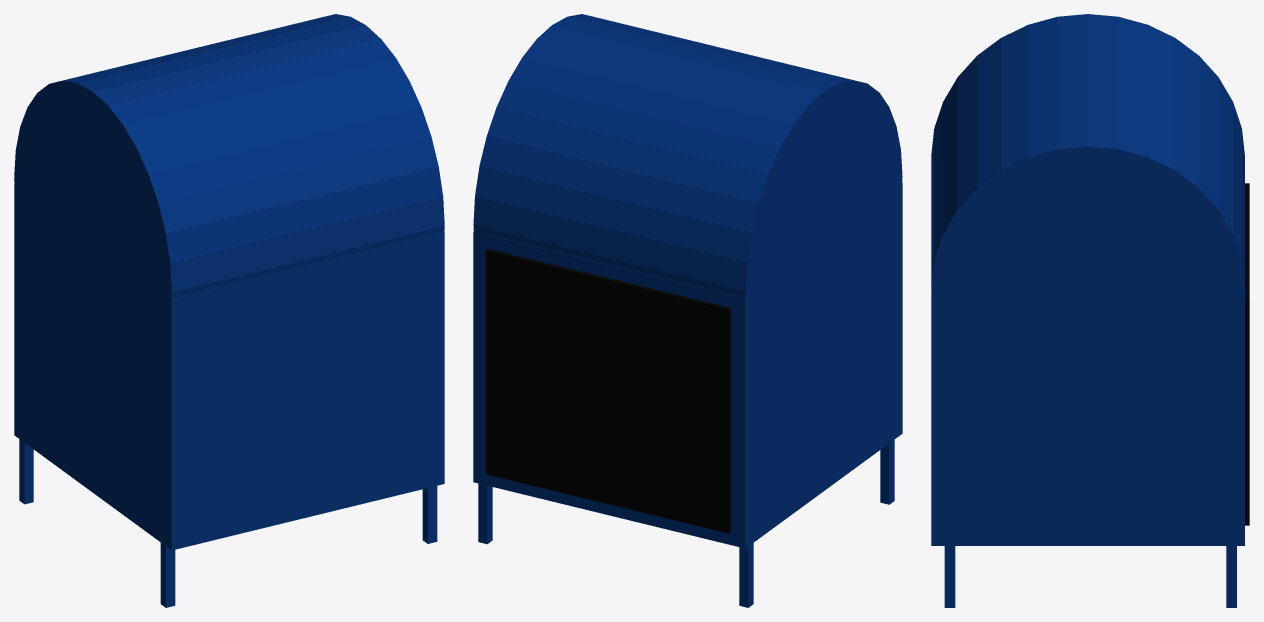
File: Newspaper chest.fbx
3 renders of one model, left to right at view 1: azimuth 30°, elevation 25°; view 2: azimuth 150°, elevation 25°; view 3: azimuth 270°, elevation 25°, orthographic.
Visible parts, largest first — view 1: Cylinder; view 2: Cylinder, Cube.001; view 3: Cylinder, Cube.001.
Boxes of the visible parts, bbox=[...] form: Cylinder: bbox=[14, 14, 444, 607]; Cylinder: bbox=[473, 14, 902, 607]; Cube.001: bbox=[485, 249, 730, 533]; Cylinder: bbox=[931, 14, 1244, 607]; Cube.001: bbox=[1245, 183, 1249, 525].
Size of the model in its own units: 200 by 325 by 203.
